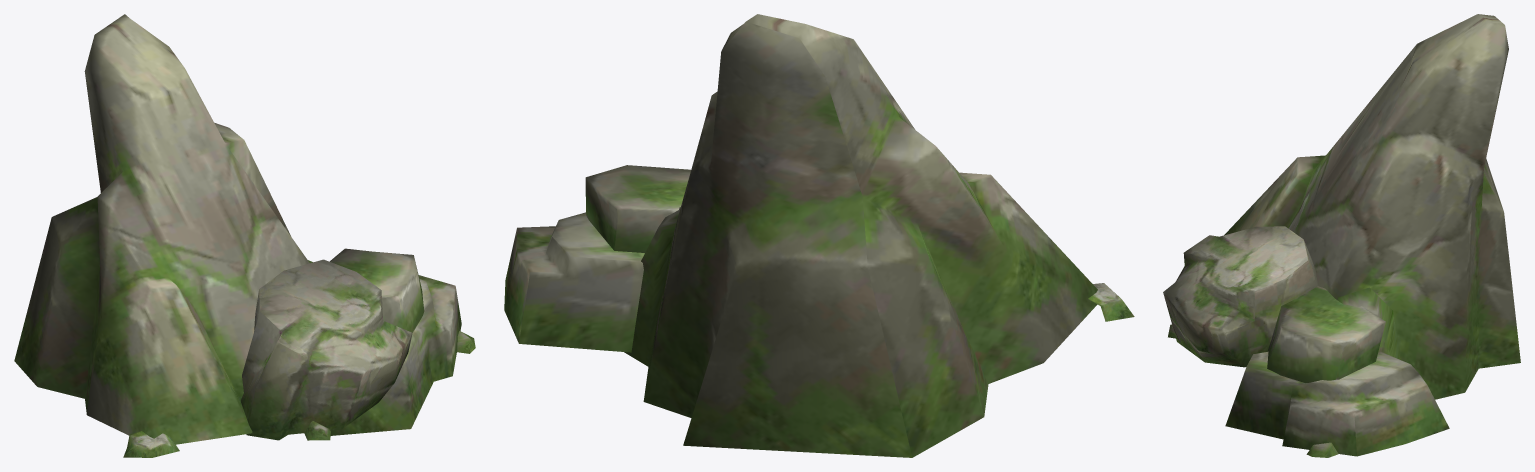
Rendered from shitou_19.FBX.
3 views of the same model, side by side, from view 1: azimuth 30°, elevation 25°; view 2: azimuth 150°, elevation 25°; view 3: azimuth 270°, elevation 25° (orthographic). The views are drawn at different scales.
Visible parts, largest first — view 1: shitou_19; view 2: shitou_19; view 3: shitou_19.
Boxes of the visible parts, x1,y1,x2,y2 form: shitou_19: (14, 14, 475, 457); shitou_19: (504, 14, 1134, 457); shitou_19: (1163, 14, 1520, 457).
Size of the model in its own units: 499 by 408 by 389.
